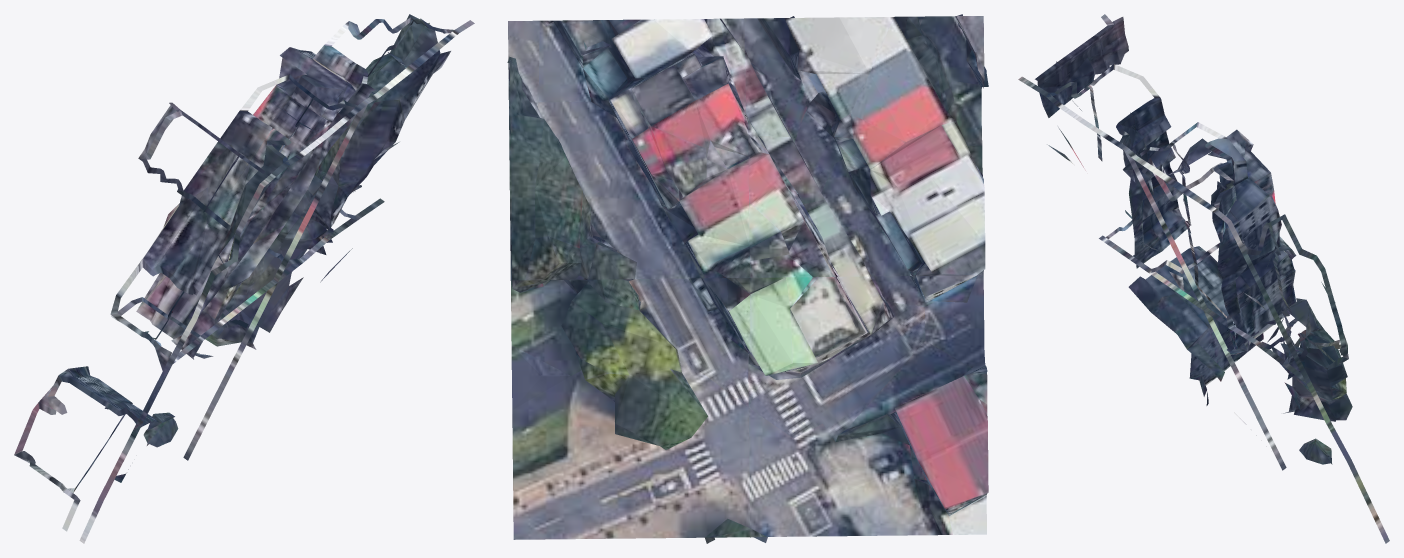
The picture shows the model from 3 angles, left to right: view 1: azimuth 30°, elevation 25°; view 2: azimuth 150°, elevation 25°; view 3: azimuth 270°, elevation 25°; orthographic projection. The views are drawn at different scales.
Bounding box in the file's own units: 82.49 × 77.85 × 64.37.
1 material, 1 textured.
